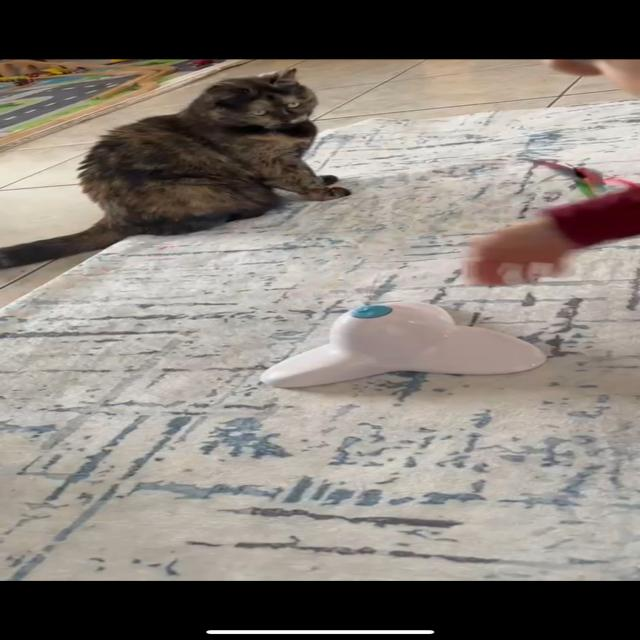authorized: (1, 67, 352, 270)
